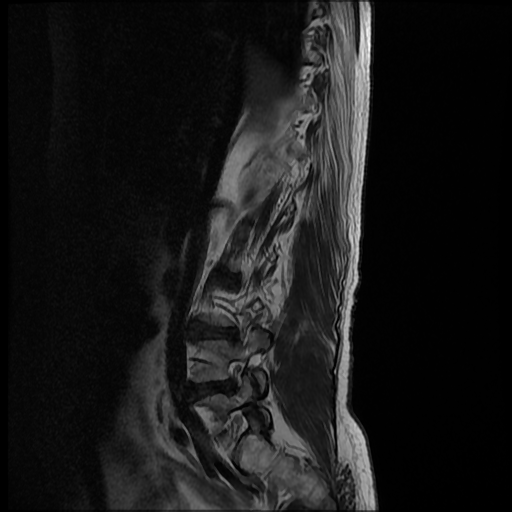RFS1: (219, 350, 253, 400)
